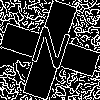N: (25, 25, 74, 80)
